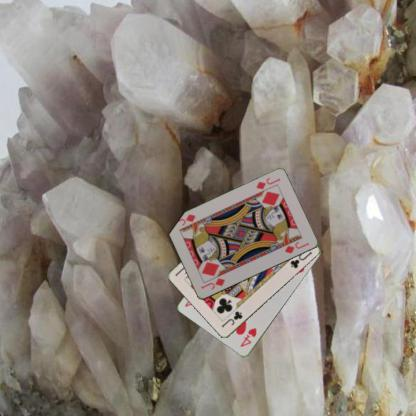4h: (238, 326, 258, 348)
Jc: (219, 308, 244, 328)
Jd: (254, 175, 281, 191), (198, 276, 226, 291)
